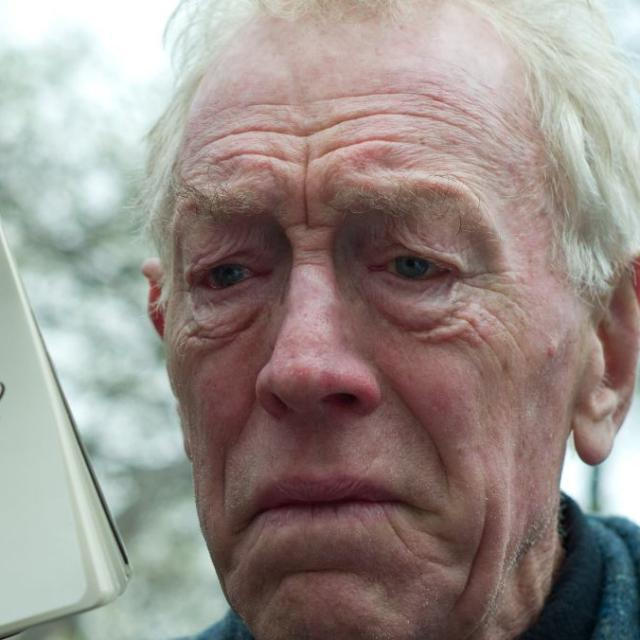Depress: (159, 16, 579, 639)
